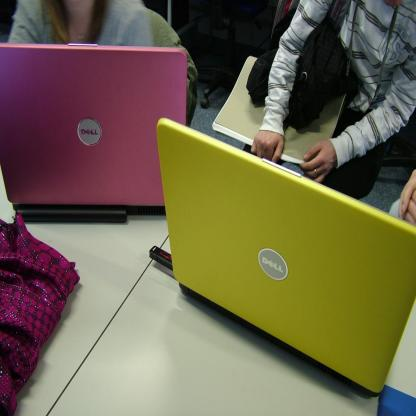board: (156, 118, 416, 394), (0, 42, 187, 216)
